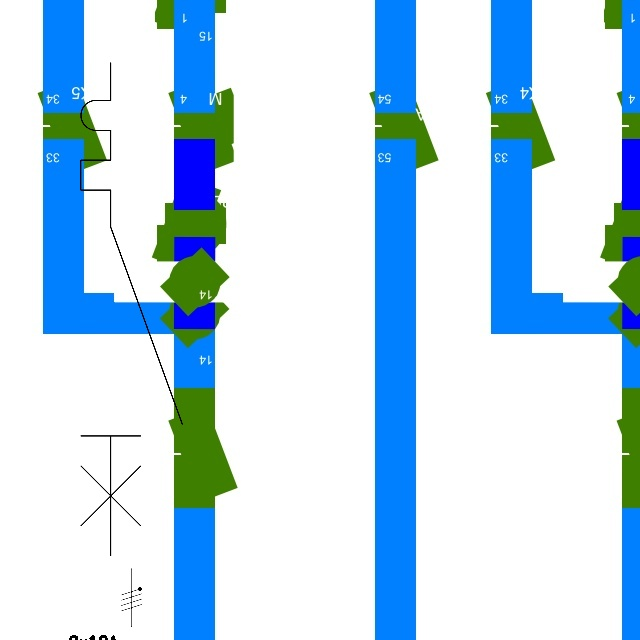interruptor_termomagnetico: (68, 50, 195, 569)
